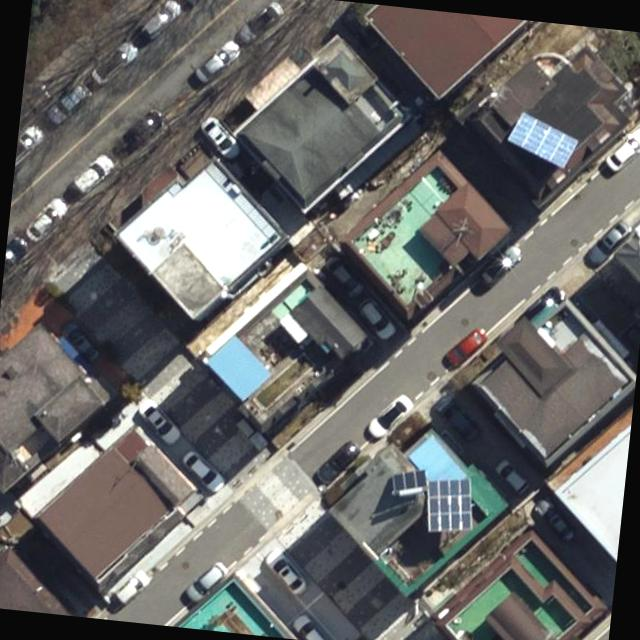solar: (502, 108, 582, 170), (421, 473, 478, 539), (387, 466, 429, 496)
